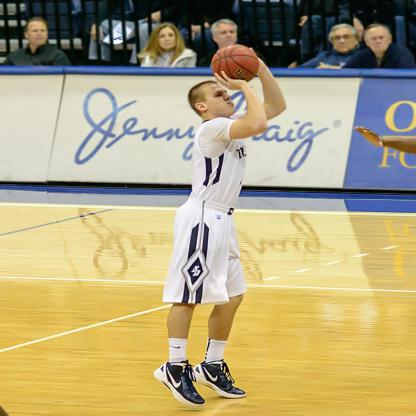Ball: (213, 45, 260, 82)
